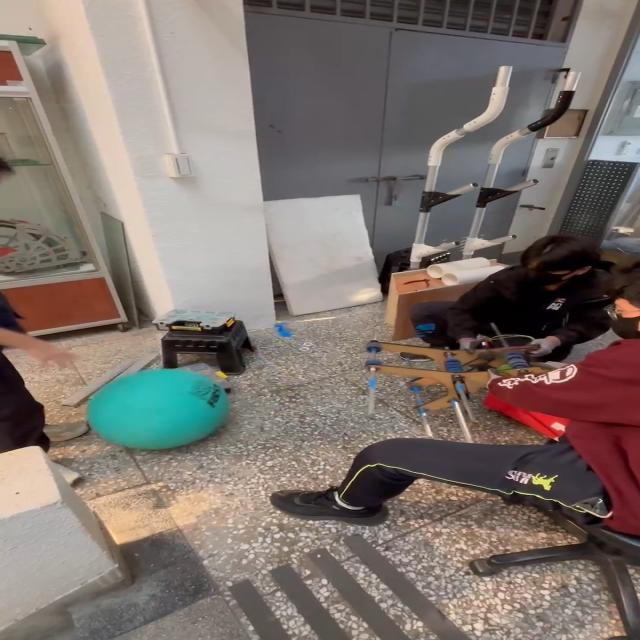ALGAE: (84, 367, 230, 451)
